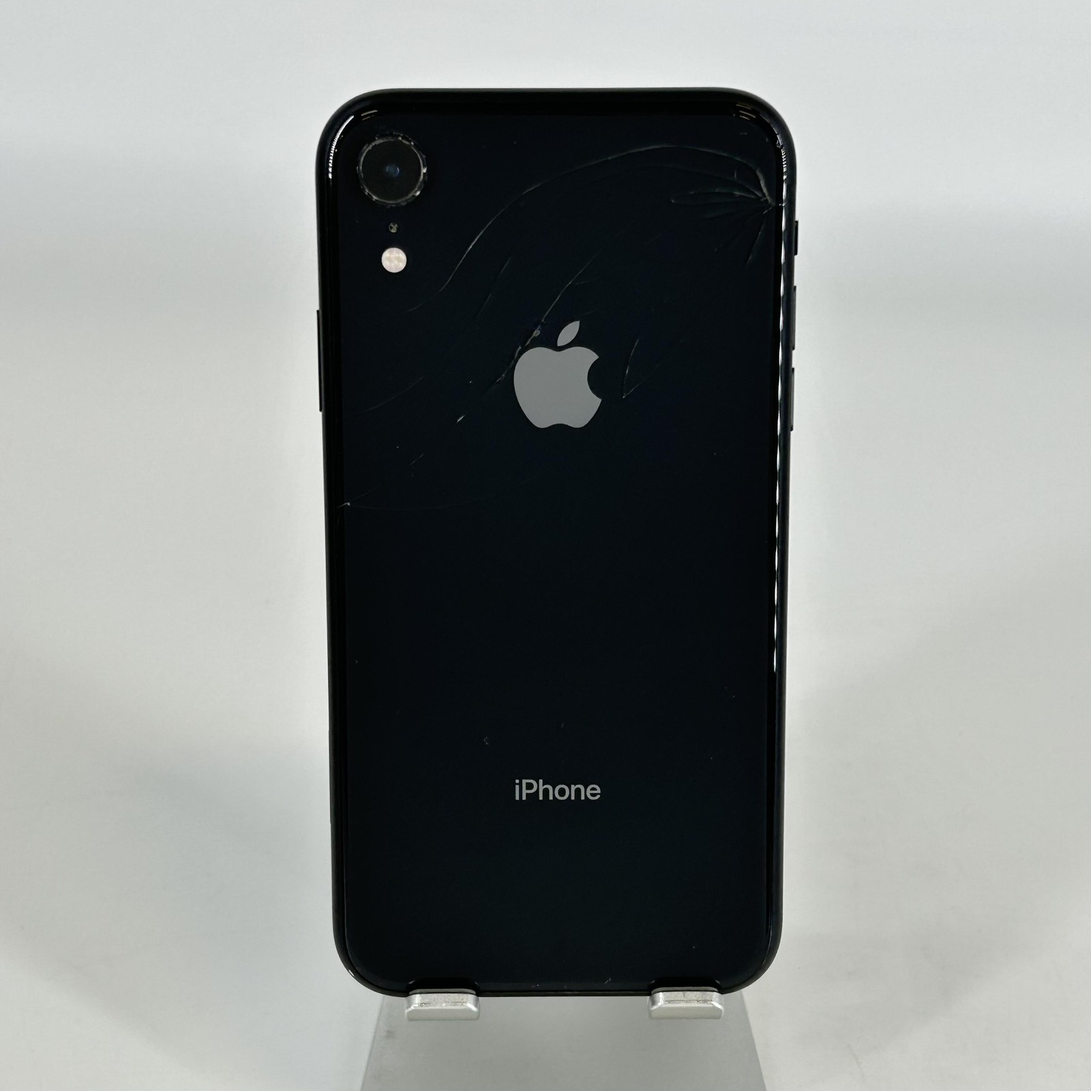crack_phone: (285, 59, 822, 1016)
